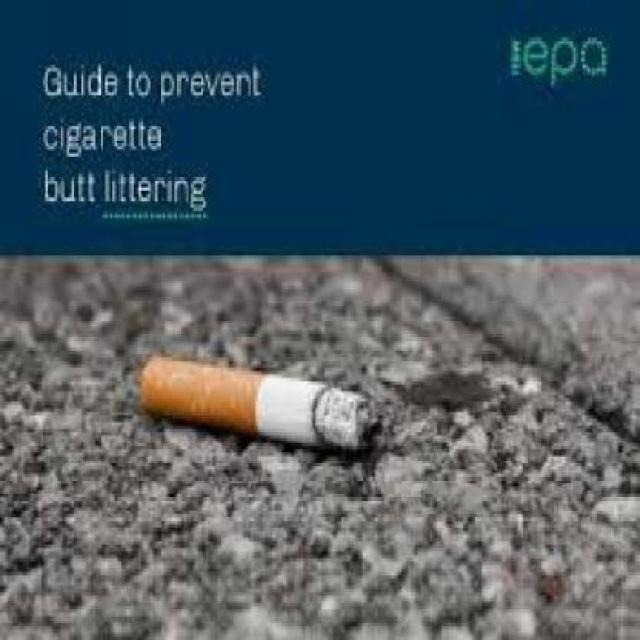cigarette: (112, 337, 406, 466)
